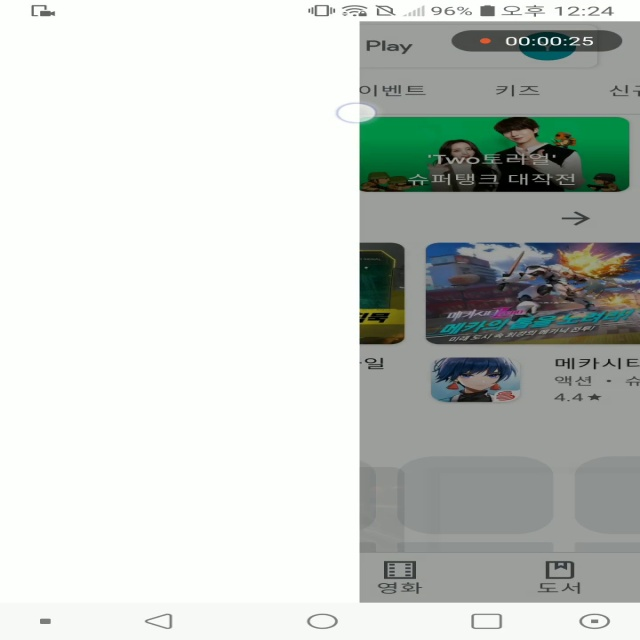Cursor: (333, 102, 377, 124)
